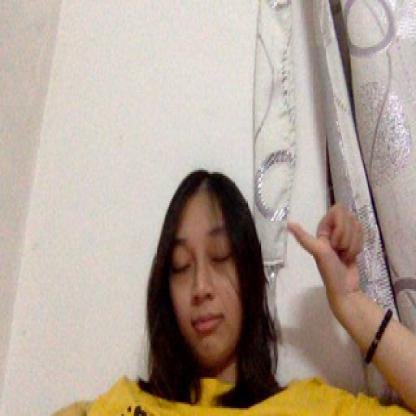right: (285, 187, 365, 301)
